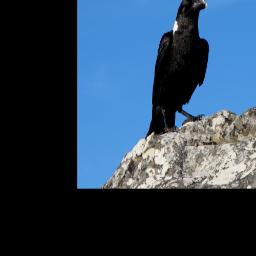Crow: (144, 0, 211, 141)
